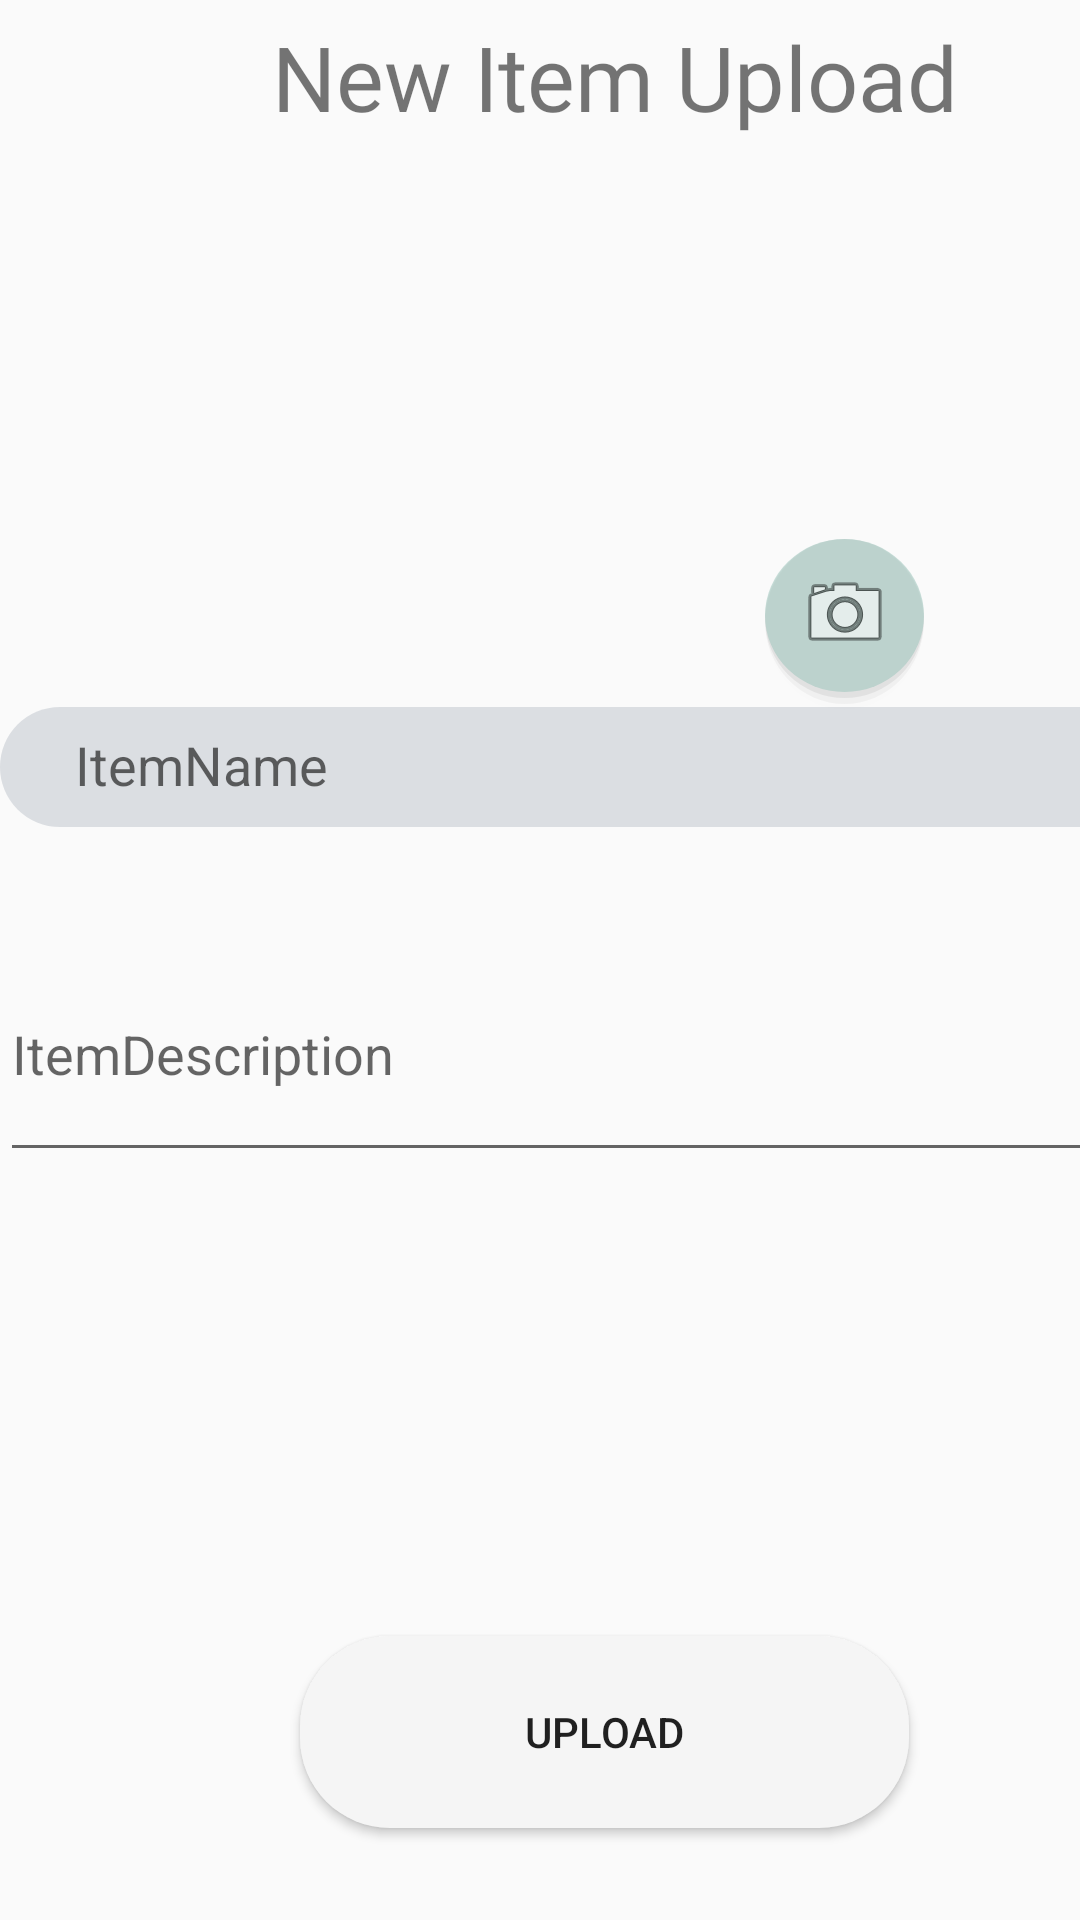

Where icons sit on this 1080 × 1920 app screen, as (x1, y1, x2, y2):
camera: (765, 539, 924, 698)
